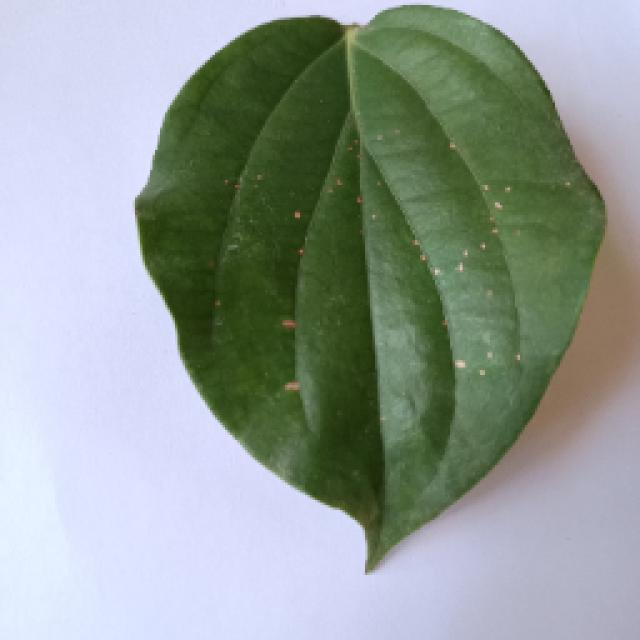pollu-disease: (135, 5, 597, 567)
